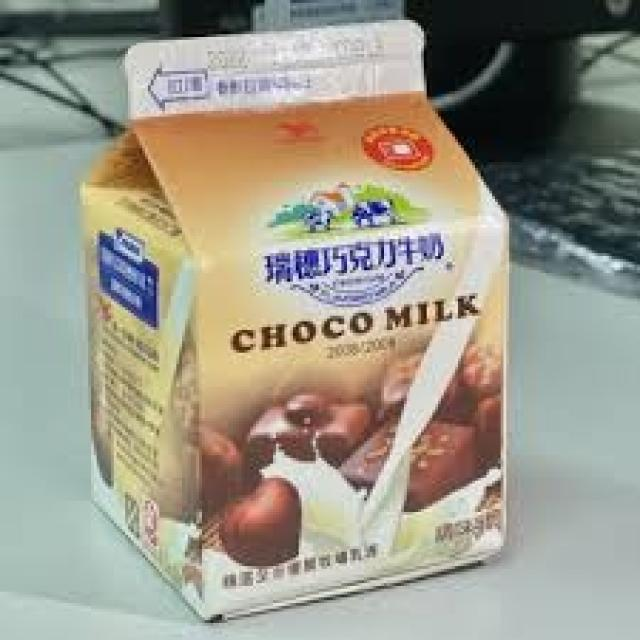RuiSui_ChocoMilk: (78, 15, 516, 624)
